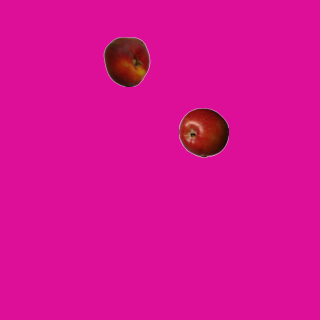Apple Braeburn: (178, 107, 228, 157)
Nectarine Flat: (101, 36, 151, 86)
